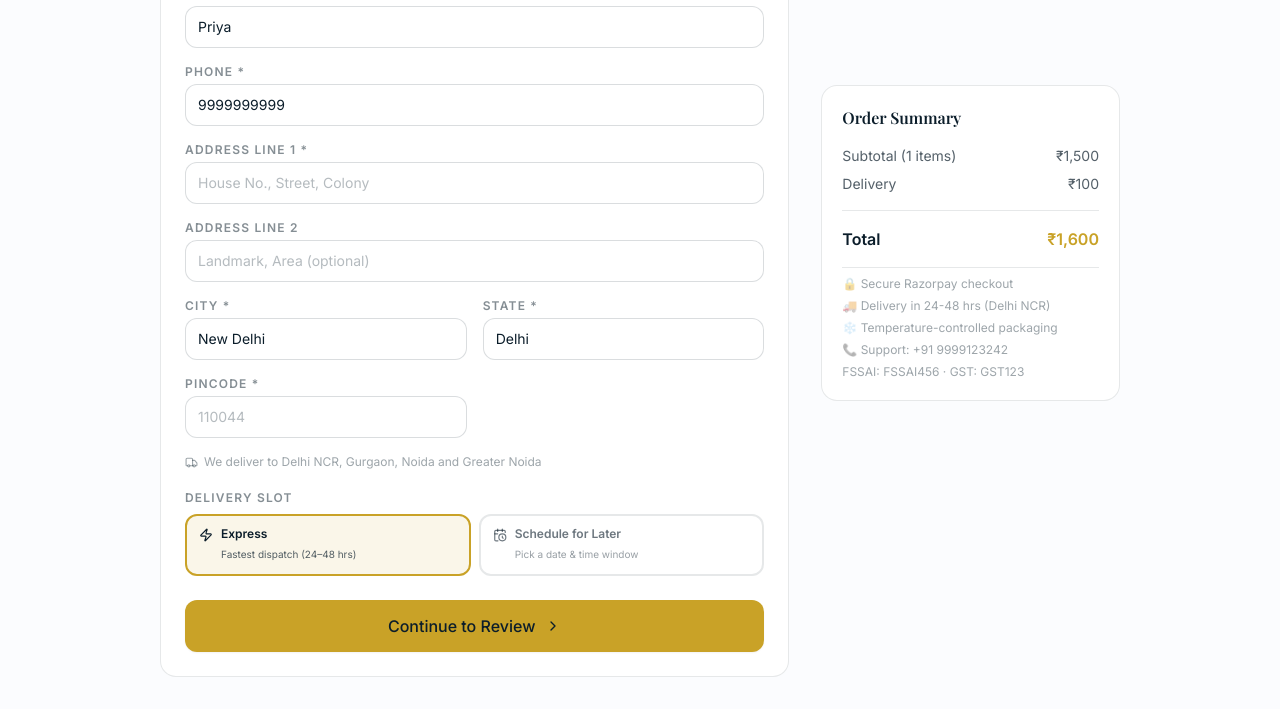
Scenario: CheckoutPage — address step › requires address line 1 and a valid pincode before continuing
(page scrolled)
Click the button "Continue to Review": (475, 626) [185, 600, 764, 652]
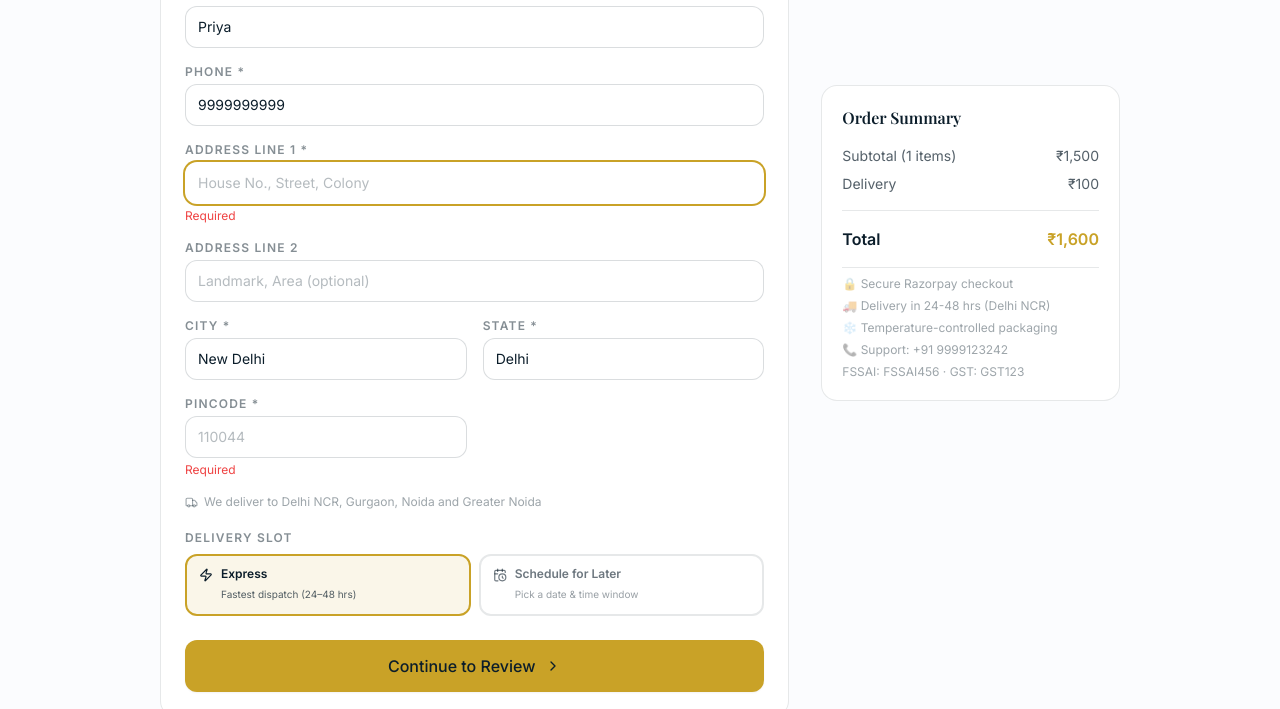
Expected: the text "Required" below "Address Line 1 *" is shown, [185, 208, 236, 223]
